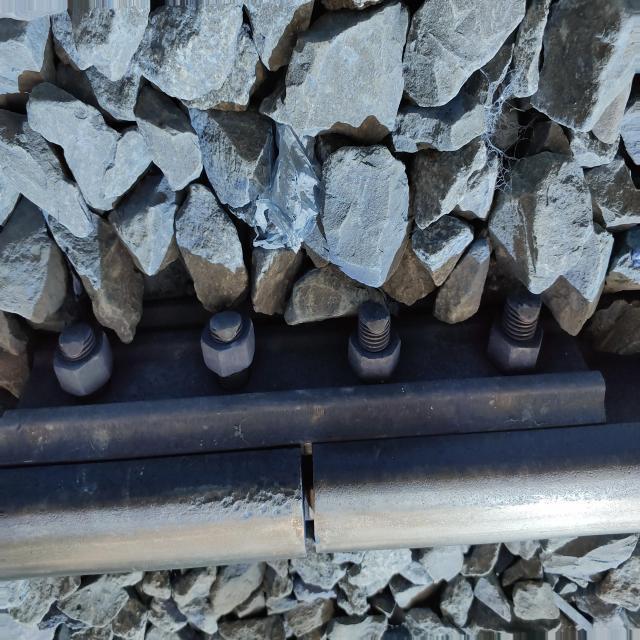Good Joint: (0, 299, 640, 468)
